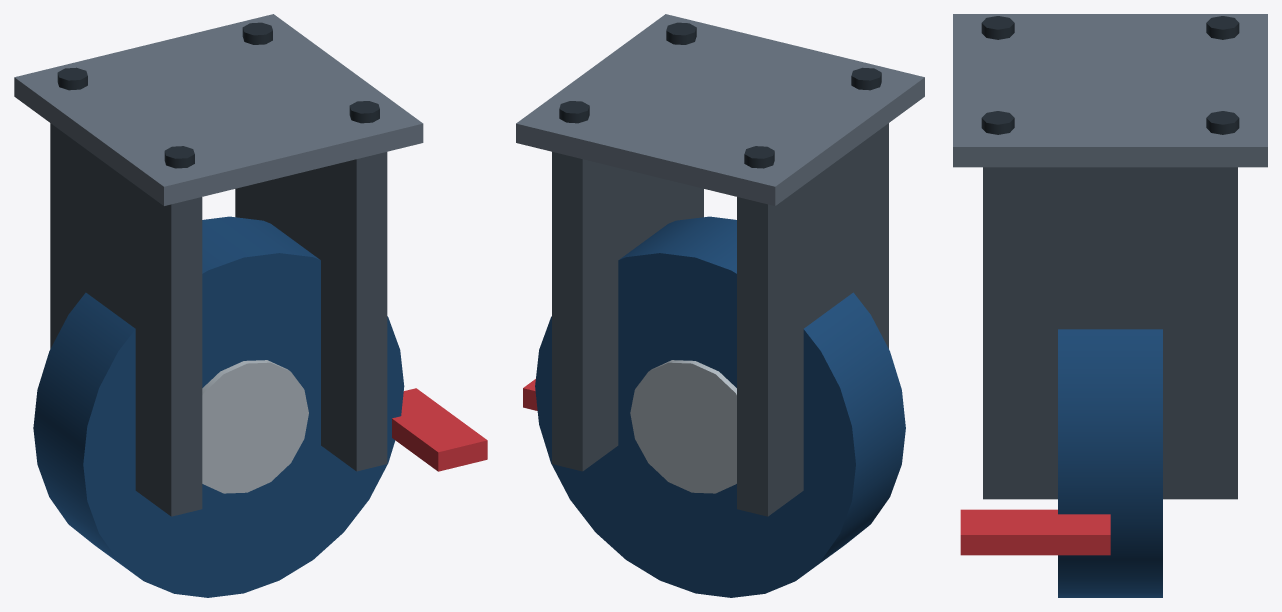
Rendered from caster-wheel.glb.
3 views of the same model, side by side, from view 1: azimuth 30°, elevation 25°; view 2: azimuth 150°, elevation 25°; view 3: azimuth 270°, elevation 25° (orthographic). The views are drawn at different scales.
Bounding box in the file's own units: 0.58 × 0.75 × 0.42.
